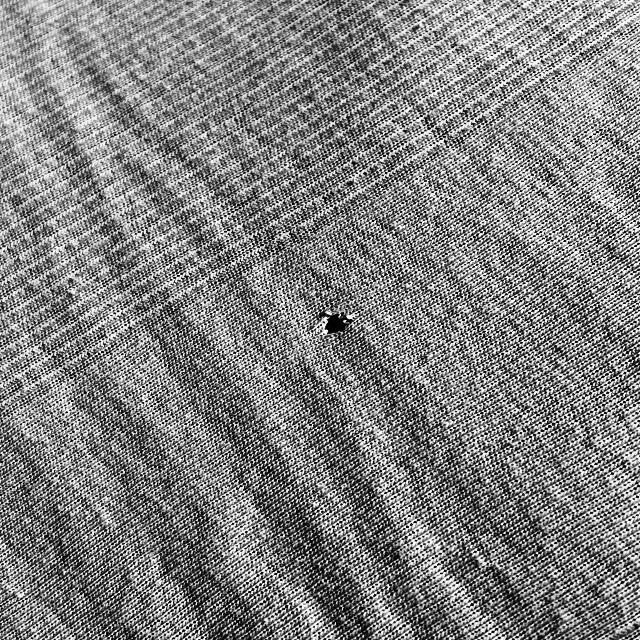Hole: (309, 299, 364, 341)
